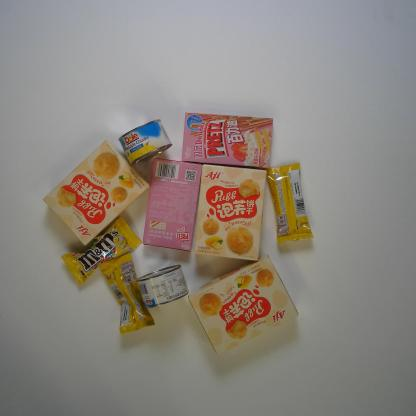Canned Food: (117, 117, 174, 167), (136, 263, 190, 311)
Chocolate: (60, 216, 143, 285), (99, 252, 156, 338), (262, 162, 316, 246)
Dessert: (186, 252, 300, 357), (41, 137, 150, 246), (192, 162, 268, 264), (141, 156, 204, 253), (181, 111, 274, 170)
